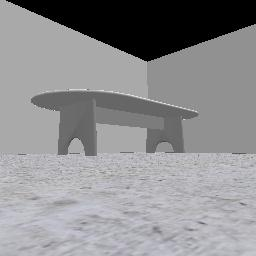masa: (31, 90, 198, 155)
